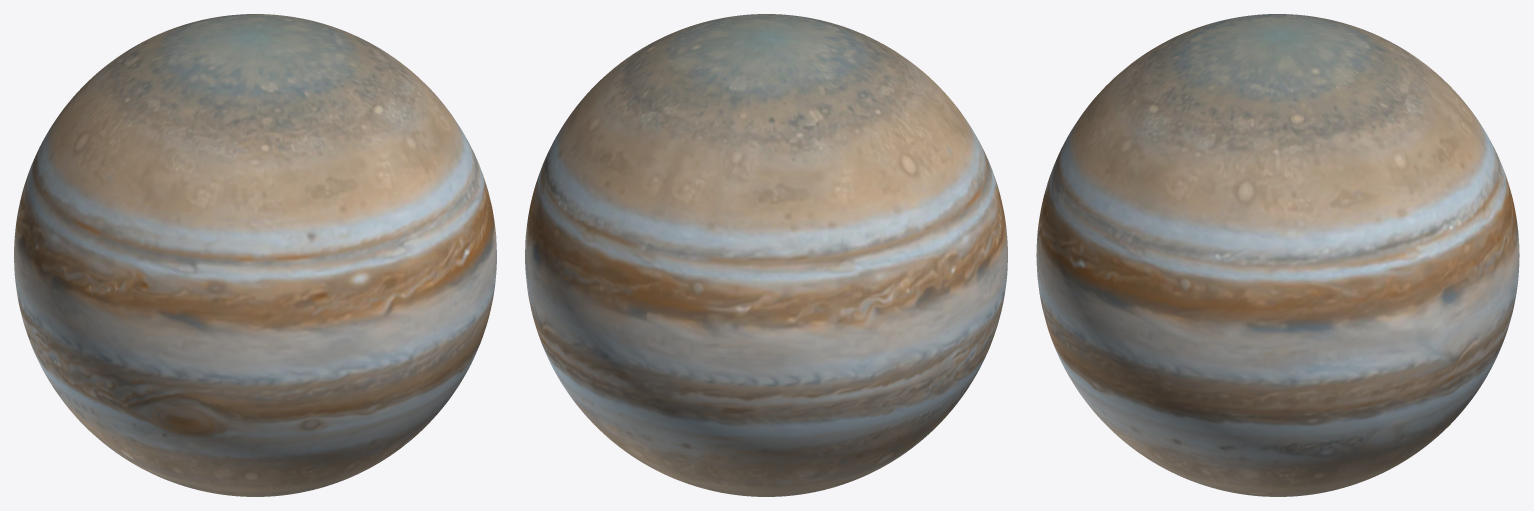
The model's file is planet_13.glb.
The picture shows the model from 3 angles, left to right: view 1: azimuth 30°, elevation 25°; view 2: azimuth 150°, elevation 25°; view 3: azimuth 270°, elevation 25°; orthographic projection.
Visible parts, largest first — view 1: Earth_Planet_0; view 2: Earth_Planet_0; view 3: Earth_Planet_0.
Part boxes in pixels (box(x1,y1,x2,y2)): Earth_Planet_0: box(14, 14, 496, 496); Earth_Planet_0: box(525, 14, 1007, 496); Earth_Planet_0: box(1036, 14, 1519, 496).
Bounding box in the file's own units: 100 × 100 × 100.
Materials: 1 (1 with a texture image).
